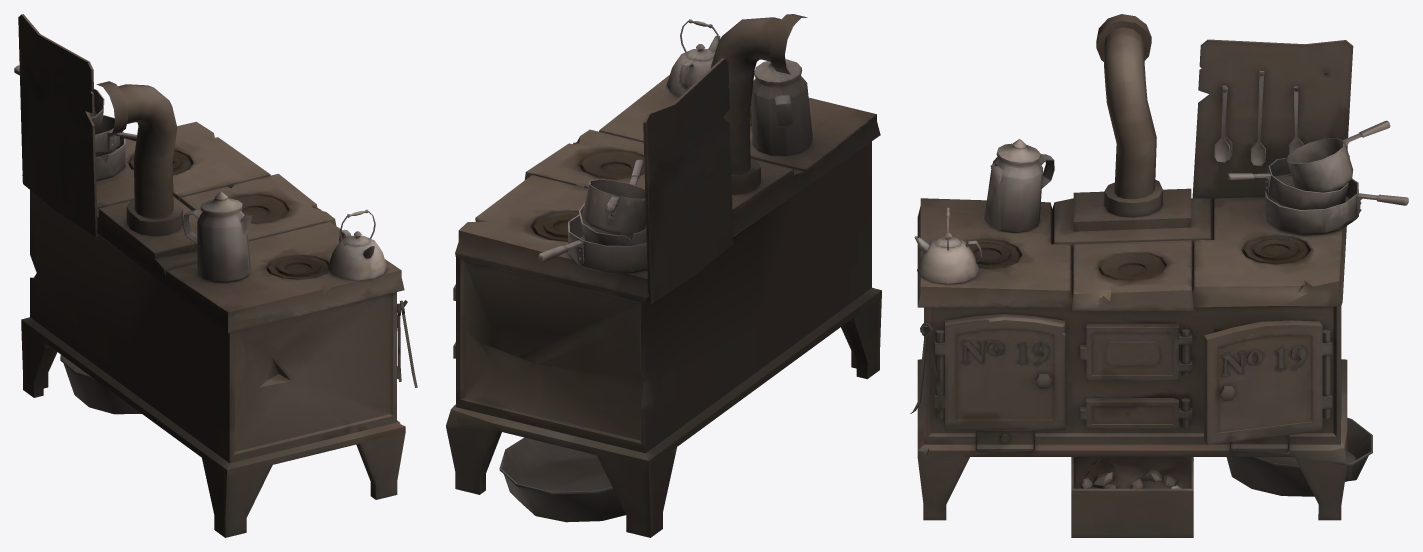
The picture shows the model from 3 angles, left to right: view 1: azimuth 30°, elevation 25°; view 2: azimuth 150°, elevation 25°; view 3: azimuth 270°, elevation 25°; orthographic projection. The views are drawn at different scales.
Visible parts, largest first — view 1: body0_model0_lod0_mesh0; view 2: body0_model0_lod0_mesh0; view 3: body0_model0_lod0_mesh0.
Boxes of the visible parts, bbox=[...] form: body0_model0_lod0_mesh0: bbox=[14, 14, 417, 537]; body0_model0_lod0_mesh0: bbox=[446, 14, 881, 537]; body0_model0_lod0_mesh0: bbox=[910, 14, 1408, 537].
Size of the model in its own units: 63.16 by 98.21 by 110.
Materials: 1 (1 with a texture image).
